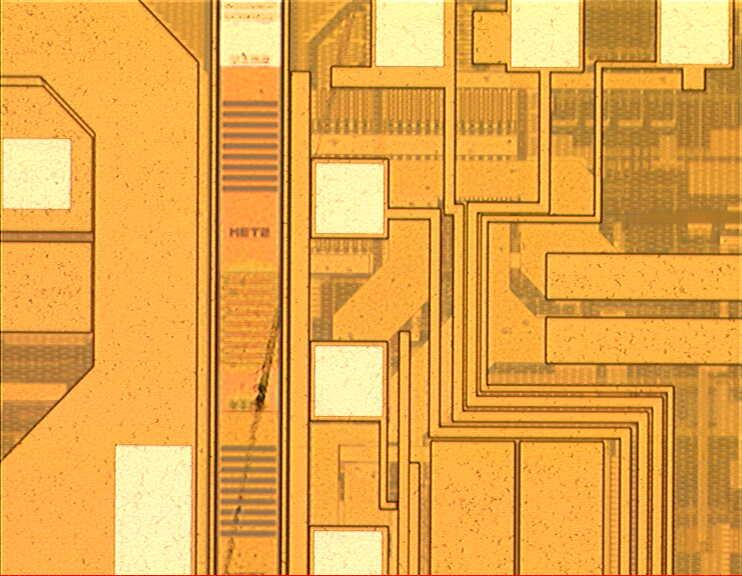SCRATCH: (213, 1, 366, 576)
